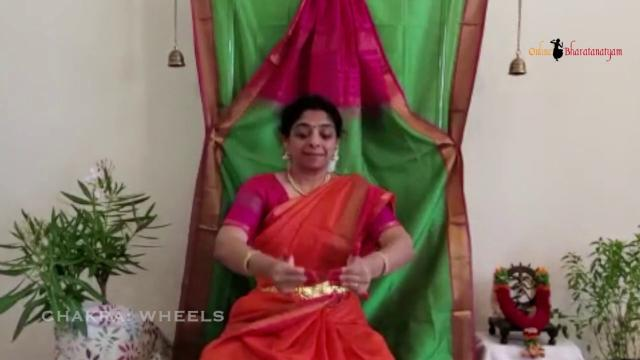mrighasheesh: (260, 236, 322, 316), (318, 232, 379, 312)
